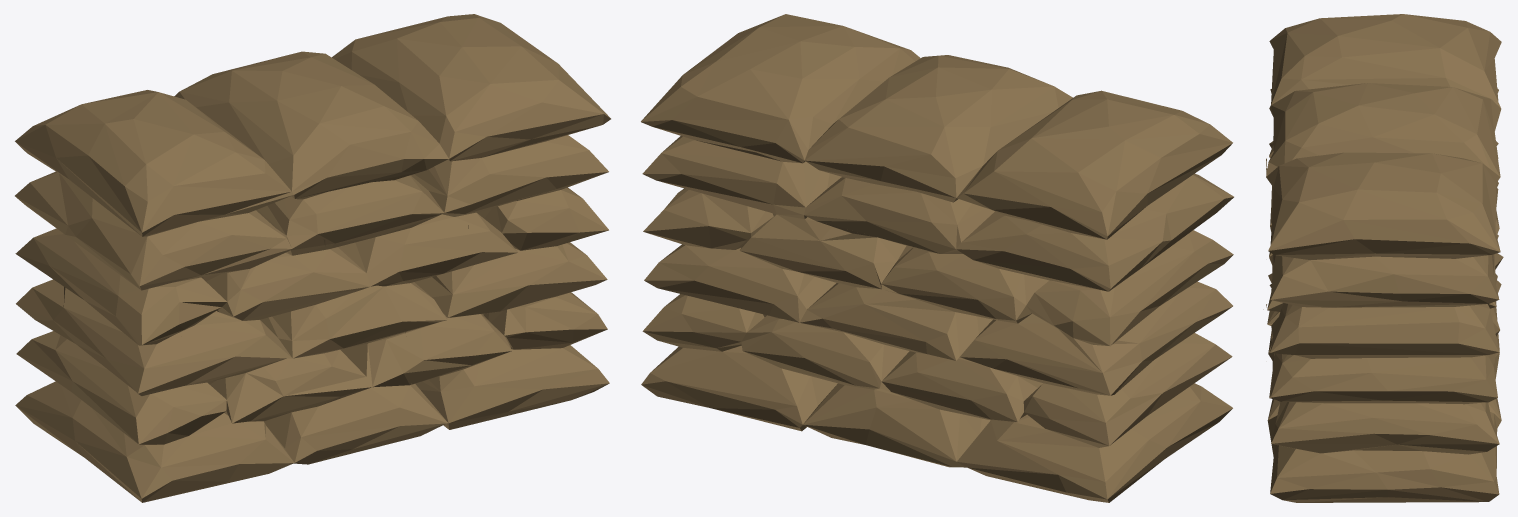
File: sandbags.glb
3 renders of one model, left to right at view 1: azimuth 30°, elevation 25°; view 2: azimuth 150°, elevation 25°; view 3: azimuth 270°, elevation 25°, orthographic. The views are drawn at different scales.
Visible parts, largest first — view 1: Mesh_0; view 2: Mesh_0; view 3: Mesh_0.
Boxes of the visible parts, bbox=[...] form: Mesh_0: bbox=[15, 14, 610, 502]; Mesh_0: bbox=[641, 14, 1233, 502]; Mesh_0: bbox=[1263, 14, 1503, 502].
Size of the model in its own units: 1.6 by 1.12 by 0.7705.
